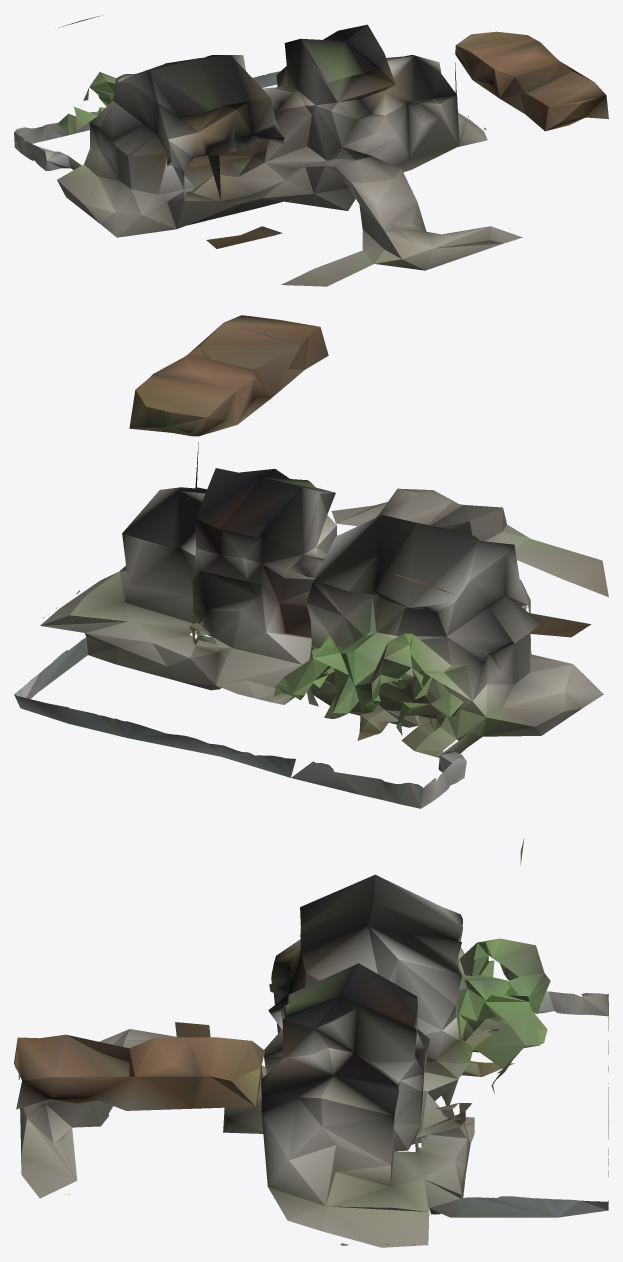
Rendered from bq_canal_house.vc2.glb.
3 views of the same model, one above another, from view 1: azimuth 30°, elevation 25°; view 2: azimuth 150°, elevation 25°; view 3: azimuth 270°, elevation 25° (orthographic). The views are drawn at different scales.
Parts seen in each view (by area): view 1: bq_canal_house; view 2: bq_canal_house; view 3: bq_canal_house.
Part boxes in pixels (<box>): bq_canal_house: <box>14,16,608,286</box>; bq_canal_house: <box>14,315,608,808</box>; bq_canal_house: <box>14,838,608,1247</box>.
Size of the model in its own units: 1.87 by 0.6657 by 1.9.
